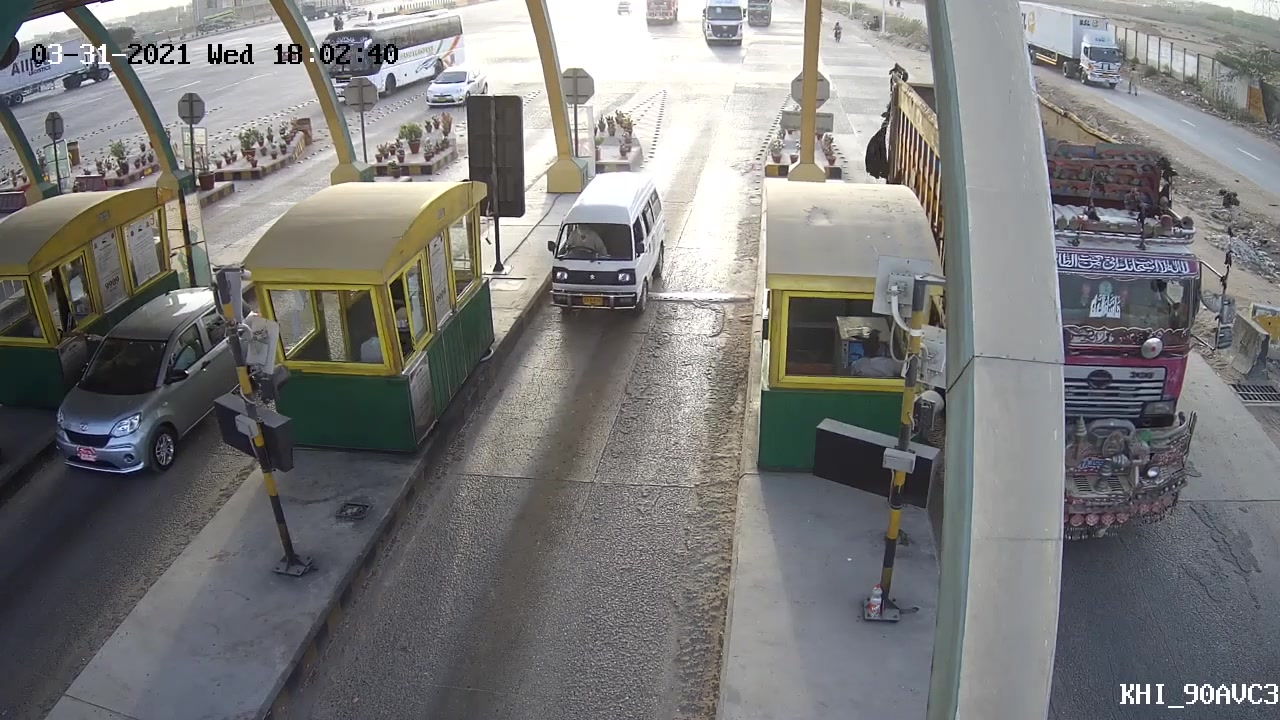F2: (536, 171, 678, 324)
